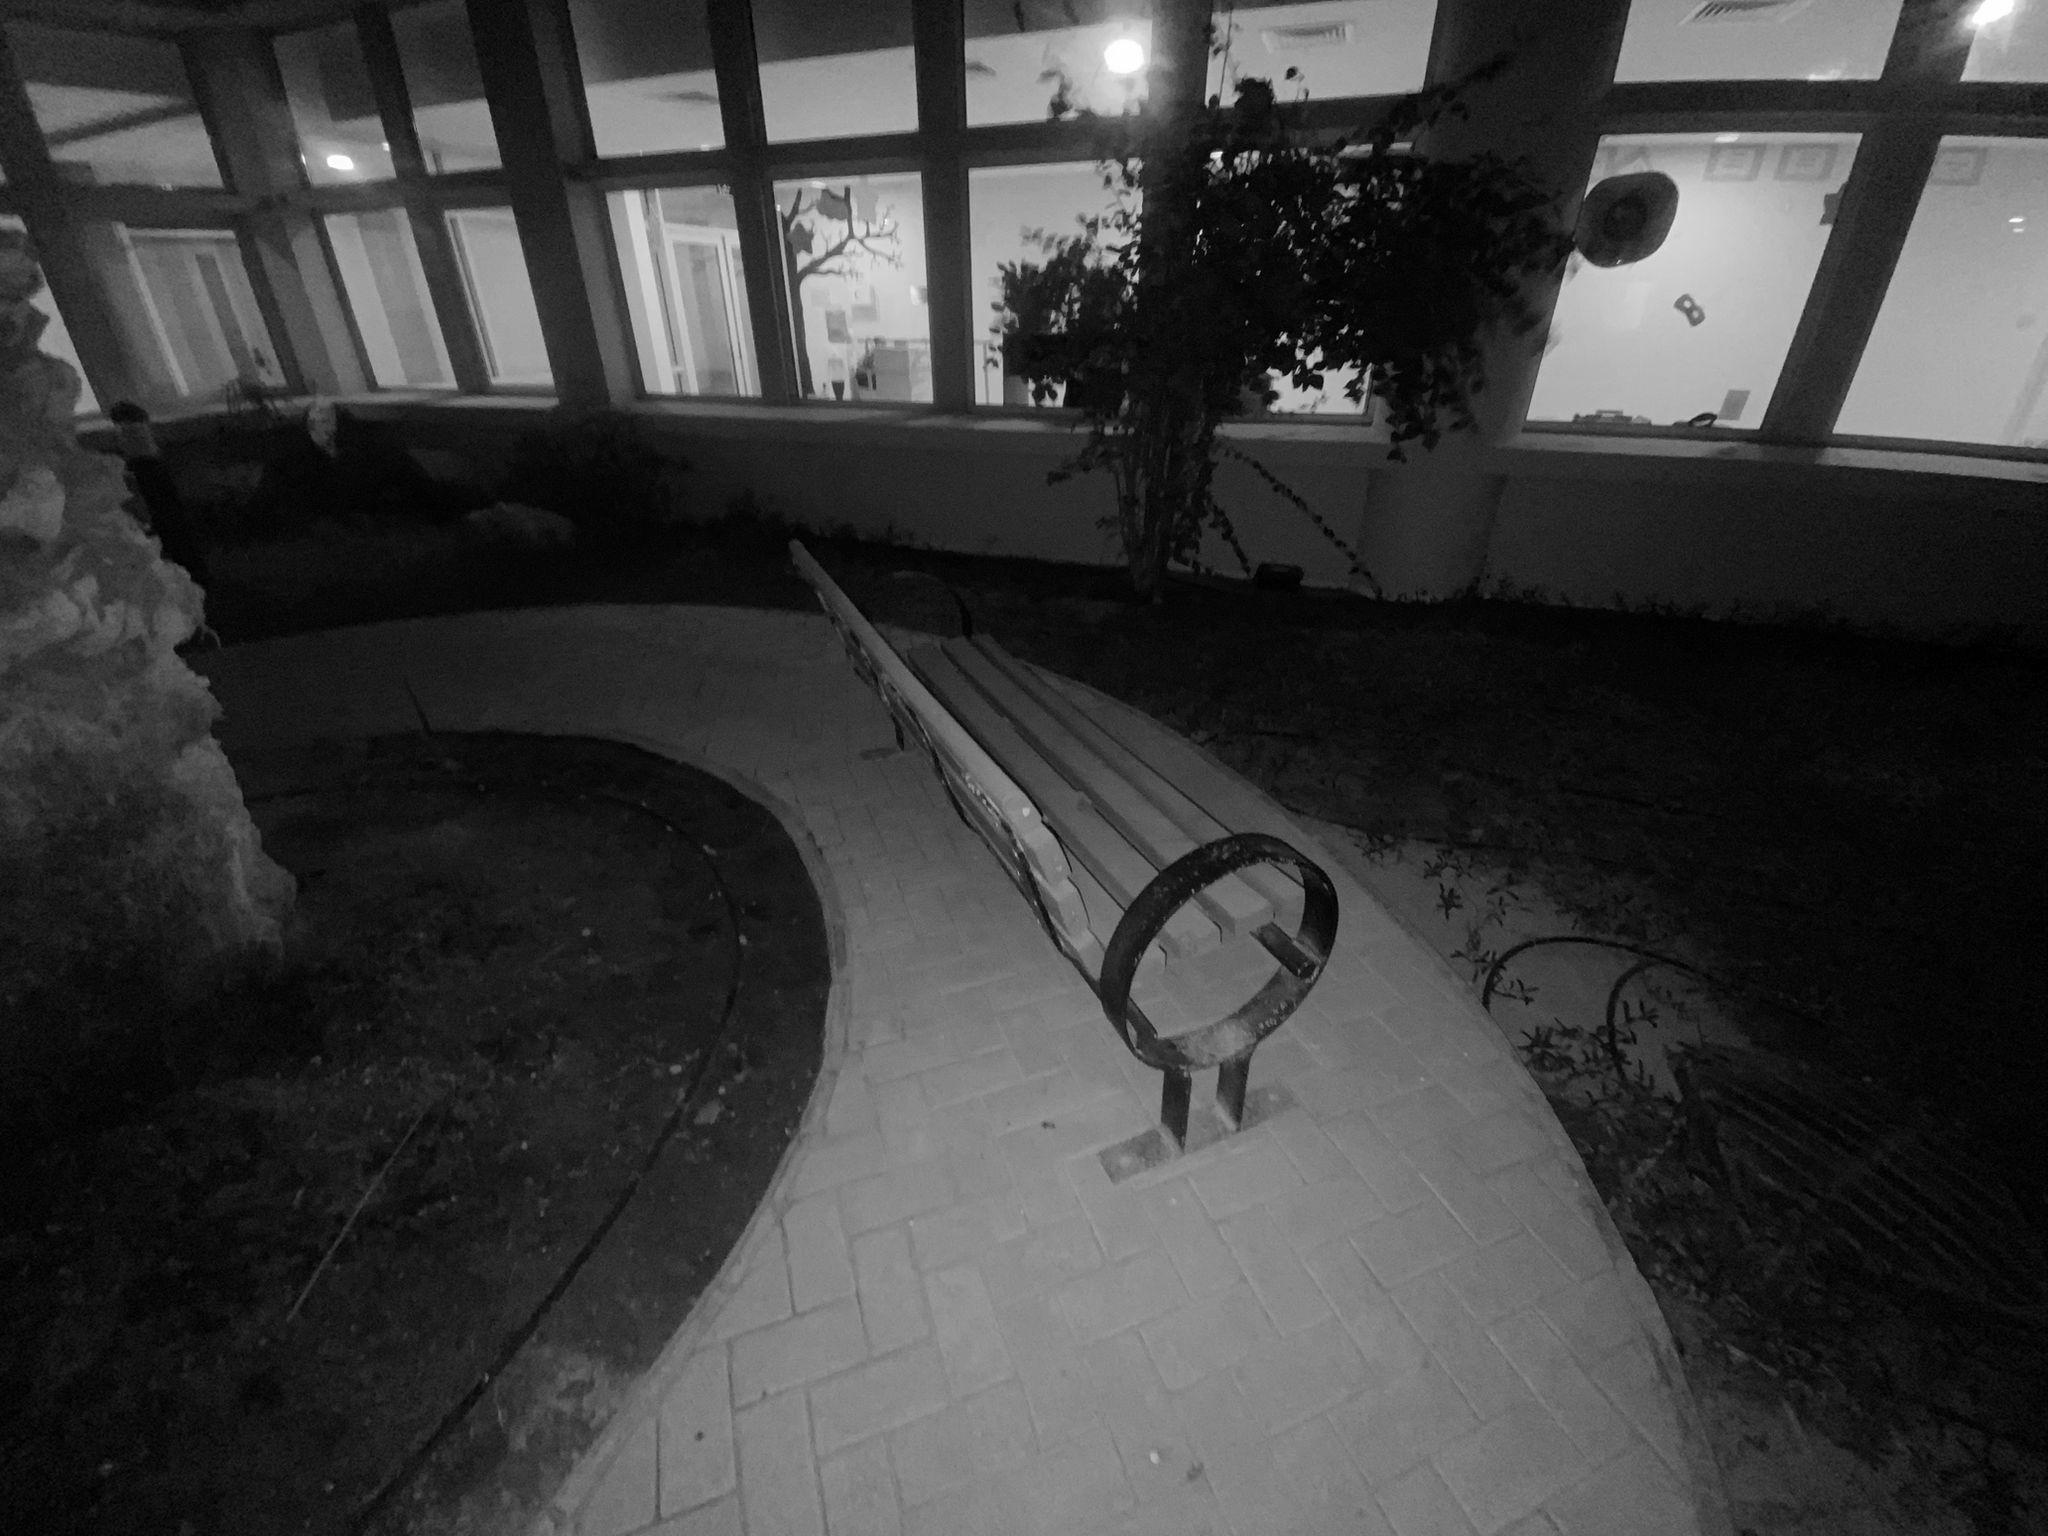Chair: (790, 542, 1338, 1181)
Pillar: (1359, 253, 1563, 599), (1416, 0, 1627, 239)
Wall: (1198, 423, 2046, 649), (339, 395, 1127, 594)
